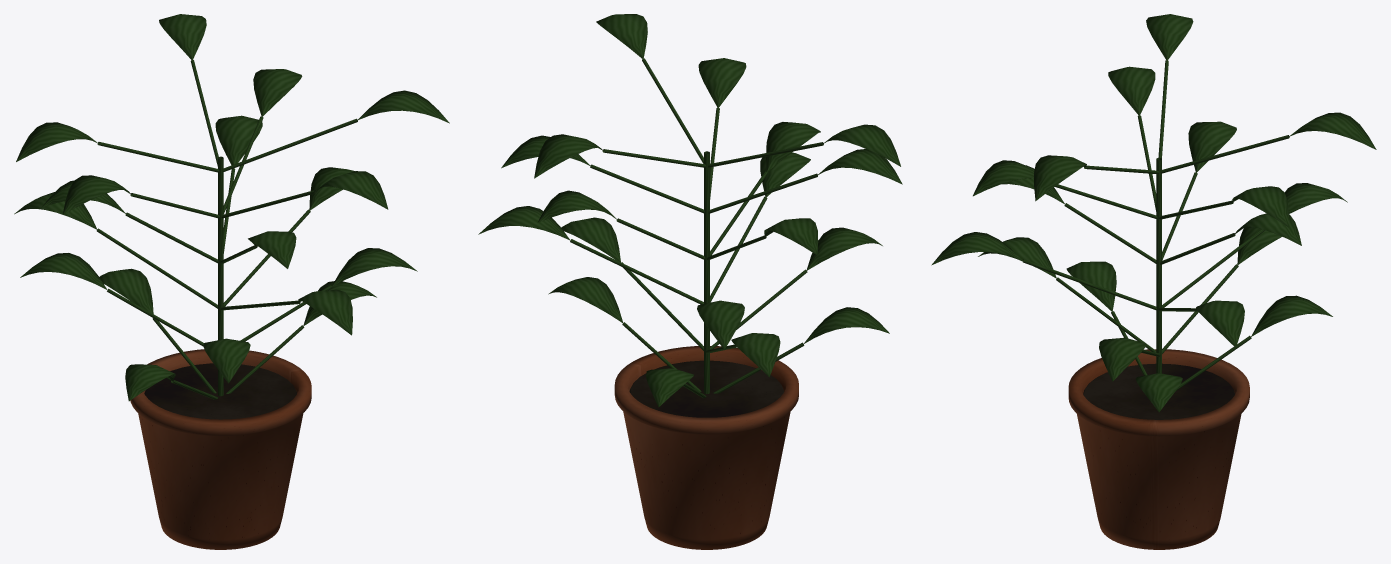
File: potted_plant.glb
3 views of the same model, side by side, from view 1: azimuth 30°, elevation 25°; view 2: azimuth 150°, elevation 25°; view 3: azimuth 270°, elevation 25° (orthographic).
Parts seen in each view (by area): view 1: Terracotta pot, Potting soil, Curved veined leaf.003, Curved veined leaf.016, Curved veined leaf.006, Curved veined leaf.002, Curved veined leaf.011, Curved veined leaf.017, Curved veined leaf.007, Curved veined leaf.005, Curved veined leaf.013, Curved veined leaf.001 (+12 smaller); view 2: Terracotta pot, Potting soil, Curved veined leaf.010, Curved veined leaf.014, Curved veined leaf.015, Curved veined leaf, Curved veined leaf.011, Curved veined leaf.013, Curved veined leaf.005, Curved veined leaf.017, Curved veined leaf.007, Central rooted stem (+11 smaller); view 3: Terracotta pot, Potting soil, Curved veined leaf.009, Curved veined leaf.004, Curved veined leaf.008, Curved veined leaf.012, Curved veined leaf.005, Curved veined leaf.017, Curved veined leaf.011, Central rooted stem, Curved veined leaf.002, Curved veined leaf.013 (+10 smaller).
Boxes of the visible parts, bbox=[...] form: Terracotta pot: bbox=[130, 349, 311, 549]; Potting soil: bbox=[144, 363, 296, 419]; Curved veined leaf.003: bbox=[215, 115, 262, 165]; Curved veined leaf.016: bbox=[253, 69, 302, 116]; Curved veined leaf.006: bbox=[99, 268, 153, 313]; Curved veined leaf.002: bbox=[298, 289, 352, 335]; Curved veined leaf.011: bbox=[159, 14, 206, 59]; Curved veined leaf.017: bbox=[16, 122, 98, 161]; Curved veined leaf.007: bbox=[203, 338, 250, 383]; Curved veined leaf.005: bbox=[358, 90, 449, 123]; Curved veined leaf.013: bbox=[332, 248, 417, 286]; Curved veined leaf.001: bbox=[20, 253, 107, 289]; Terracotta pot: bbox=[614, 346, 798, 549]; Potting soil: bbox=[629, 360, 784, 417]; Curved veined leaf.010: bbox=[698, 58, 746, 107]; Curved veined leaf.014: bbox=[697, 300, 744, 349]; Curved veined leaf.015: bbox=[766, 122, 820, 171]; Curved veined leaf: bbox=[548, 277, 623, 322]; Curved veined leaf.011: bbox=[534, 134, 603, 178]; Curved veined leaf.013: bbox=[561, 217, 620, 262]; Curved veined leaf.005: bbox=[596, 14, 647, 58]; Curved veined leaf.017: bbox=[823, 124, 900, 166]; Curved veined leaf.007: bbox=[806, 227, 882, 270]; Central rooted stem: bbox=[704, 151, 709, 393]; Terracotta pot: bbox=[1068, 349, 1249, 549]; Potting soil: bbox=[1083, 363, 1234, 419]; Curved veined leaf.009: bbox=[1188, 121, 1236, 172]; Curved veined leaf.004: bbox=[1108, 66, 1155, 115]; Curved veined leaf.008: bbox=[1196, 300, 1244, 347]; Curved veined leaf.012: bbox=[1066, 261, 1116, 311]; Curved veined leaf.005: bbox=[1034, 155, 1086, 201]; Curved veined leaf.017: bbox=[1146, 14, 1193, 60]; Curved veined leaf.011: bbox=[1289, 112, 1376, 149]; Central rooted stem: bbox=[1156, 158, 1161, 373]; Curved veined leaf.002: bbox=[931, 232, 1022, 265]; Curved veined leaf.013: bbox=[1099, 337, 1146, 381].
Size of the model in its own units: 0.7488 by 0.8024 by 0.7515.
Materials: 3 (3 with a texture image).
